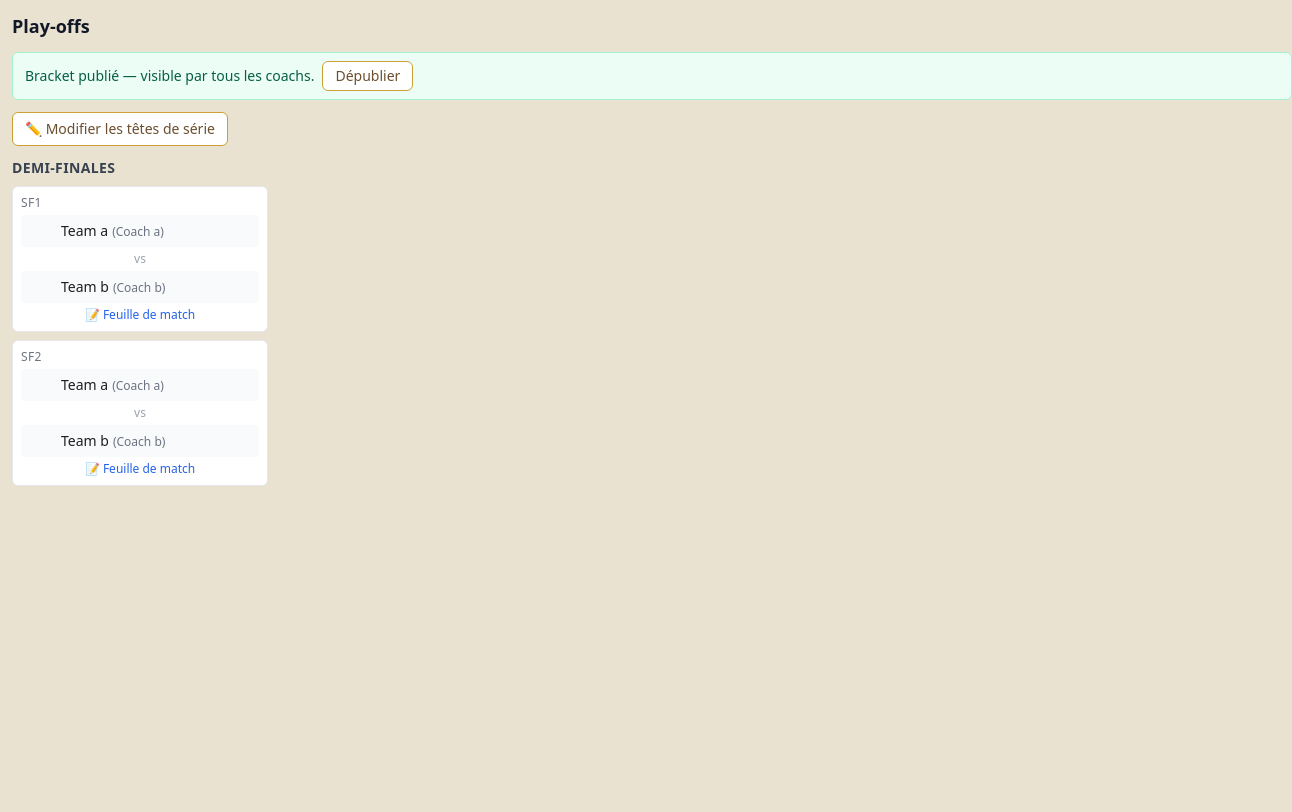
Scenario: CupPlayoffBracketView › refuse un doublon dans les têtes
Expected: the element with test id "cup-playoffs" is shown, [12,12,1291,494]
Click the button with test id "cup-playoffs-edit-seeds": coordinates (120, 129) [12,112,228,146]
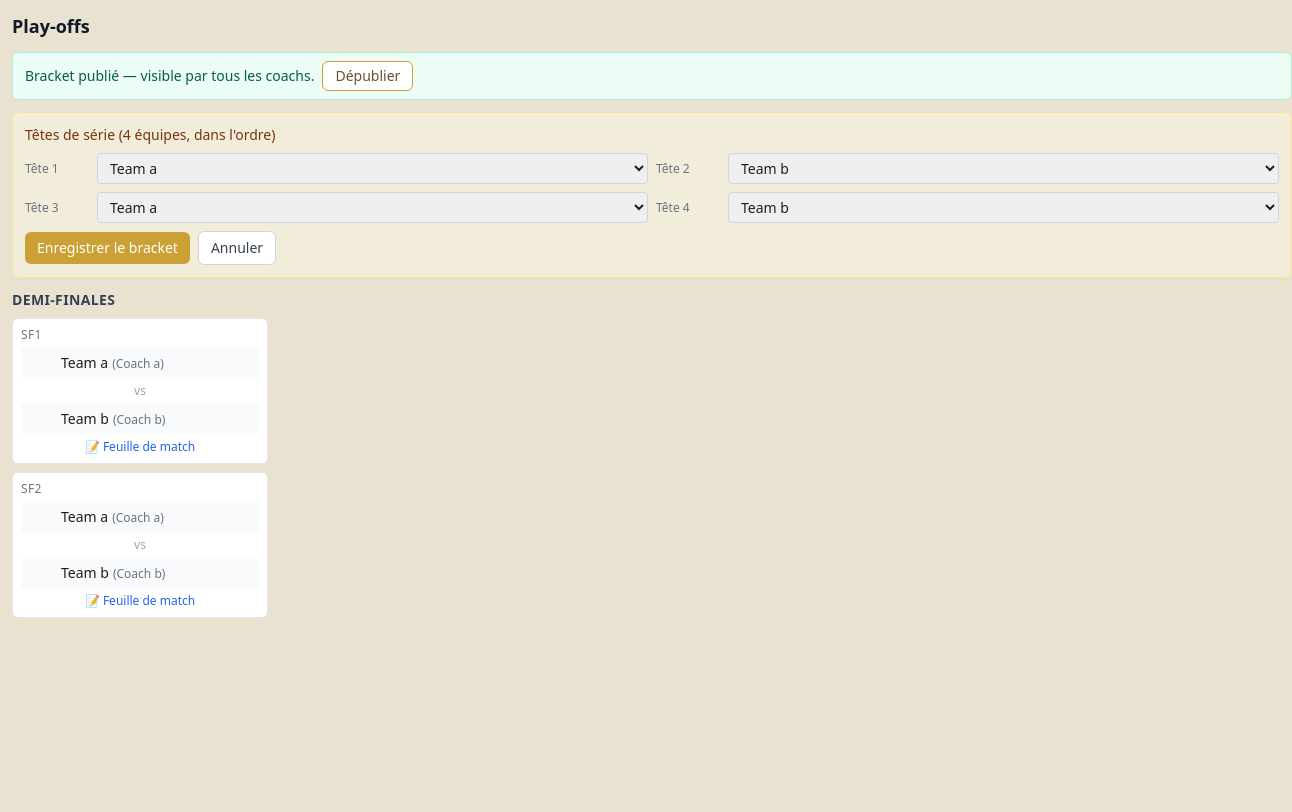
Select "Team a" in the dropdown next to "Tête 1": coordinates (372, 168) [97,153,648,184]
Select "Team a" in the dropdown next to "Tête 2": coordinates (1004, 168) [728,153,1279,184]
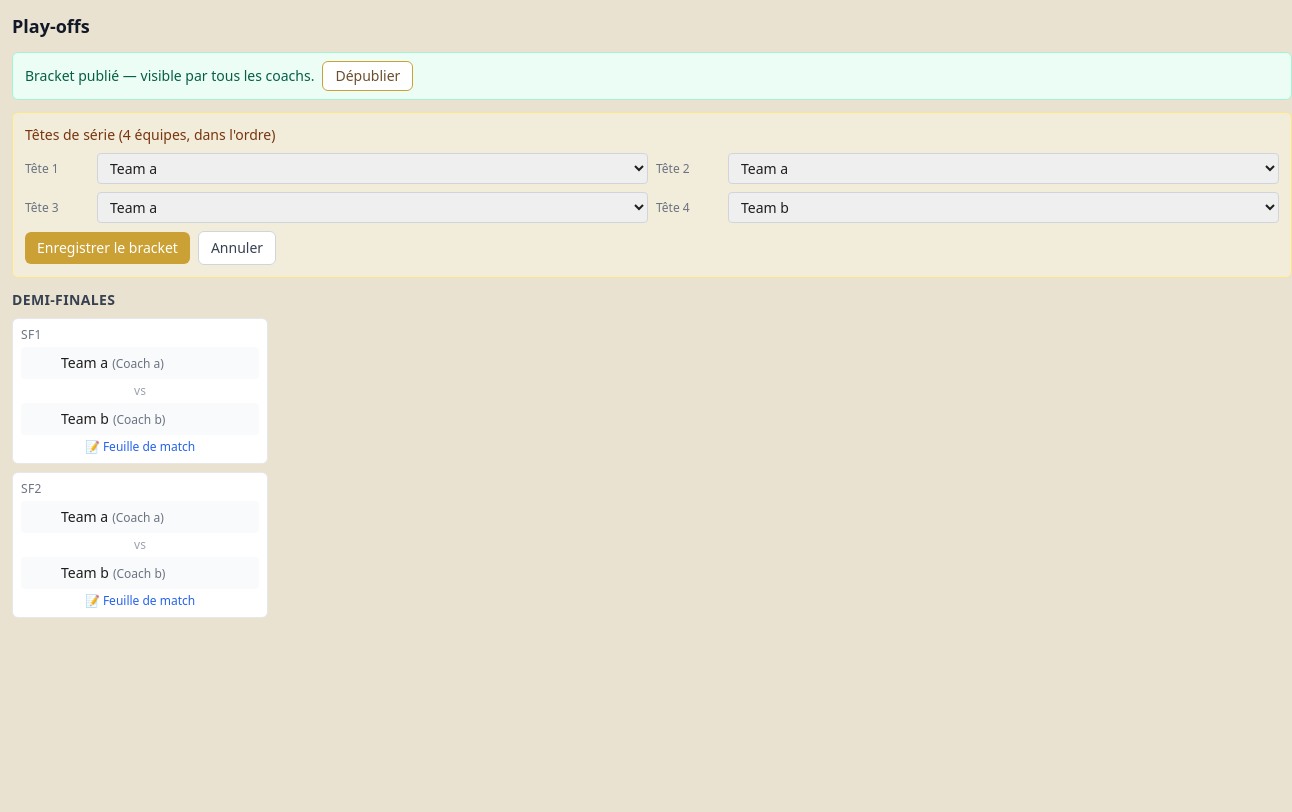
Select "Team a" in the dropdown next to "Tête 3": coordinates (372, 208) [97,192,648,223]
Select "Team a" in the dropdown next to "Tête 4": coordinates (1004, 208) [728,192,1279,223]
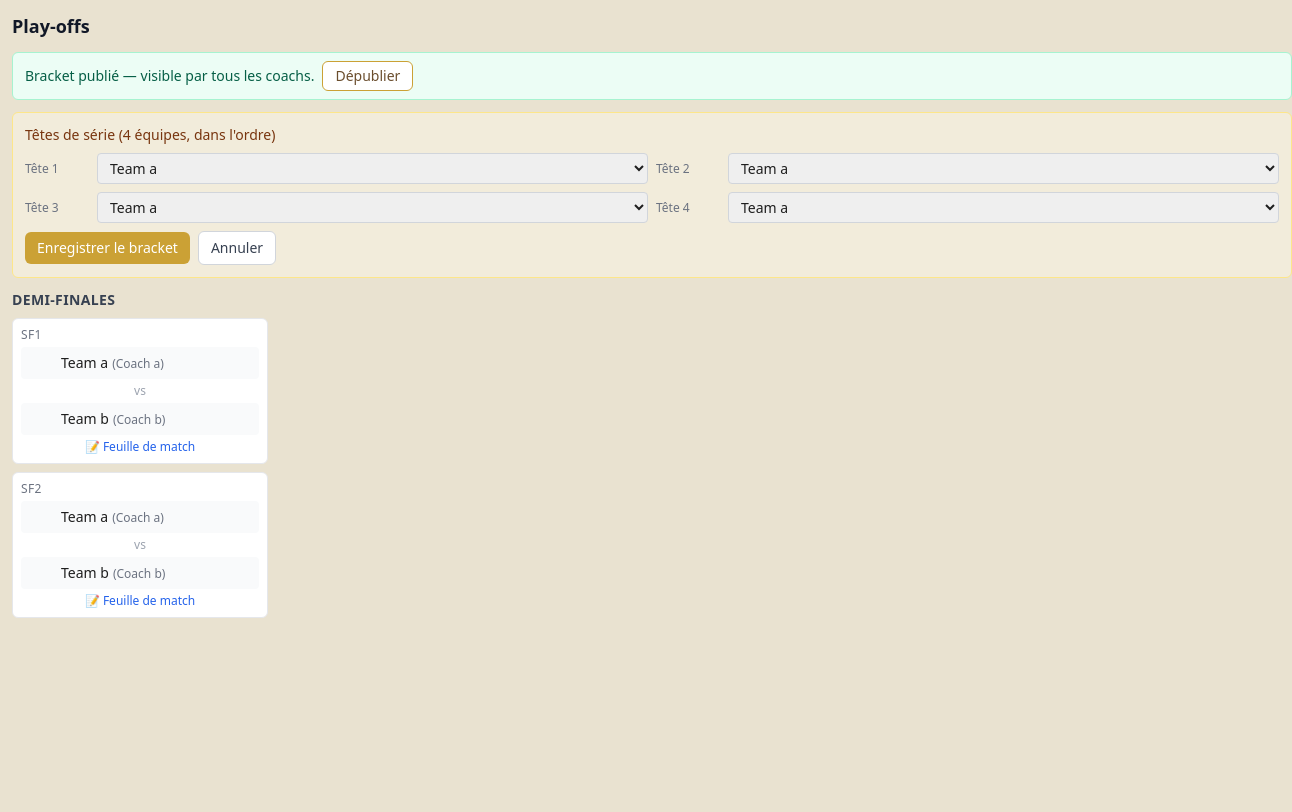
Click the button with test id "cup-playoffs-save-seeds": coordinates (107, 248) [25,232,190,264]
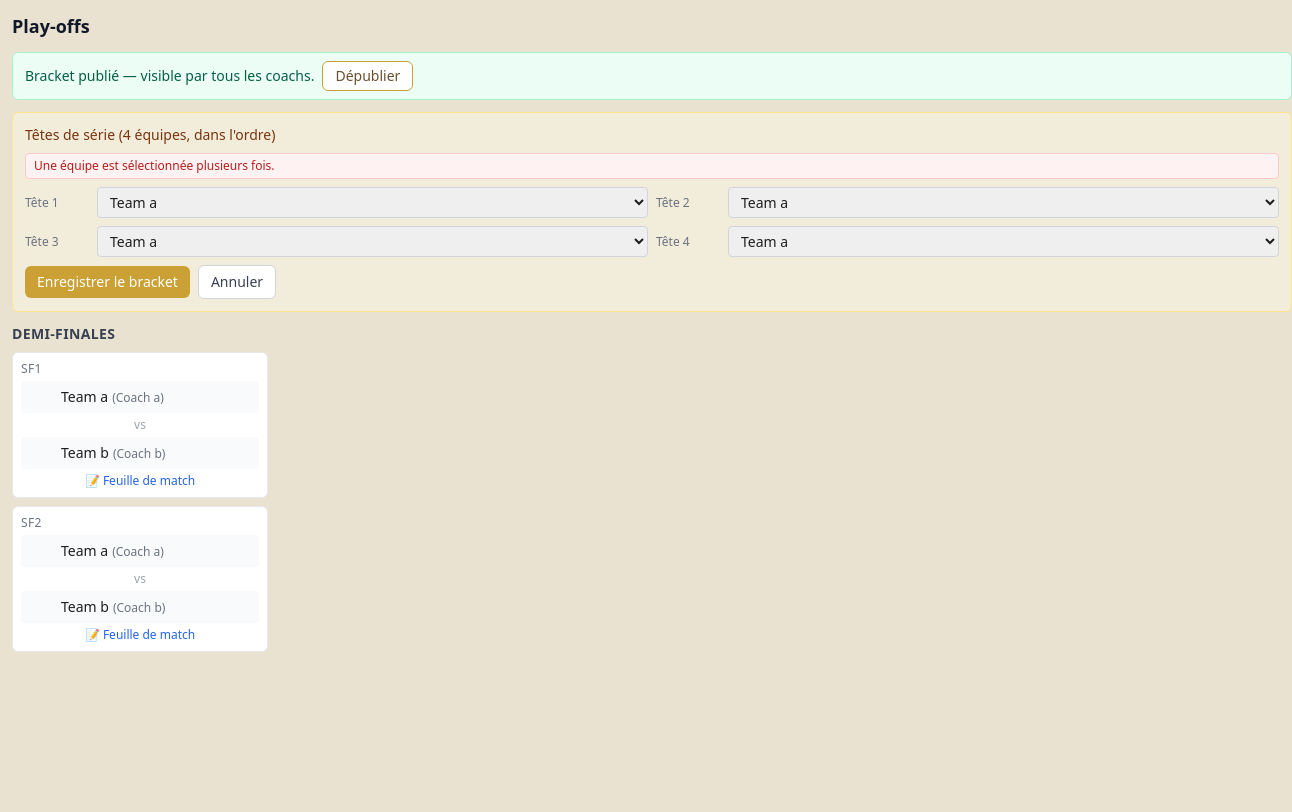
Expected: the text with test id "cup-playoffs-seeds-error" shows "plusieurs fois", [34,157,274,174]
